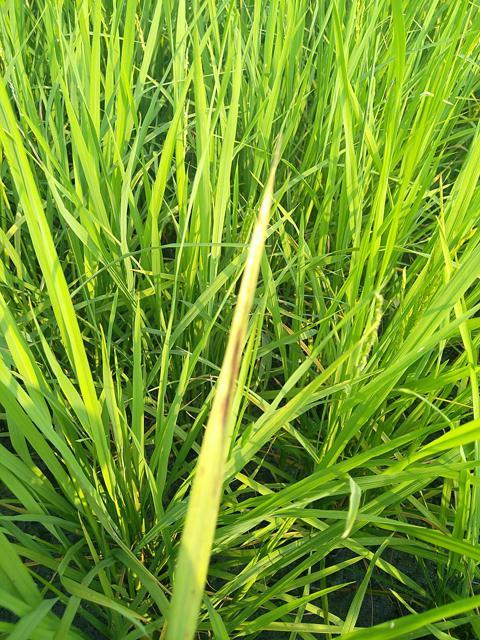Leaf Blight: (162, 132, 281, 639)
